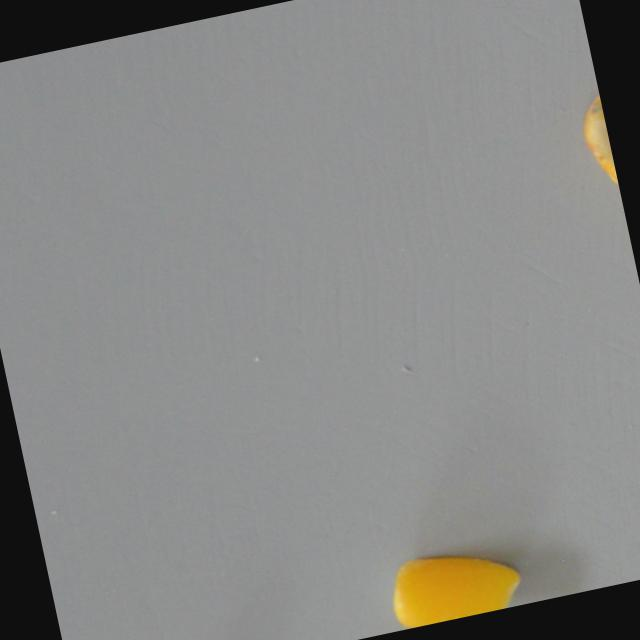estandar: (384, 531, 525, 630)
punto_negro: (571, 82, 621, 204)
